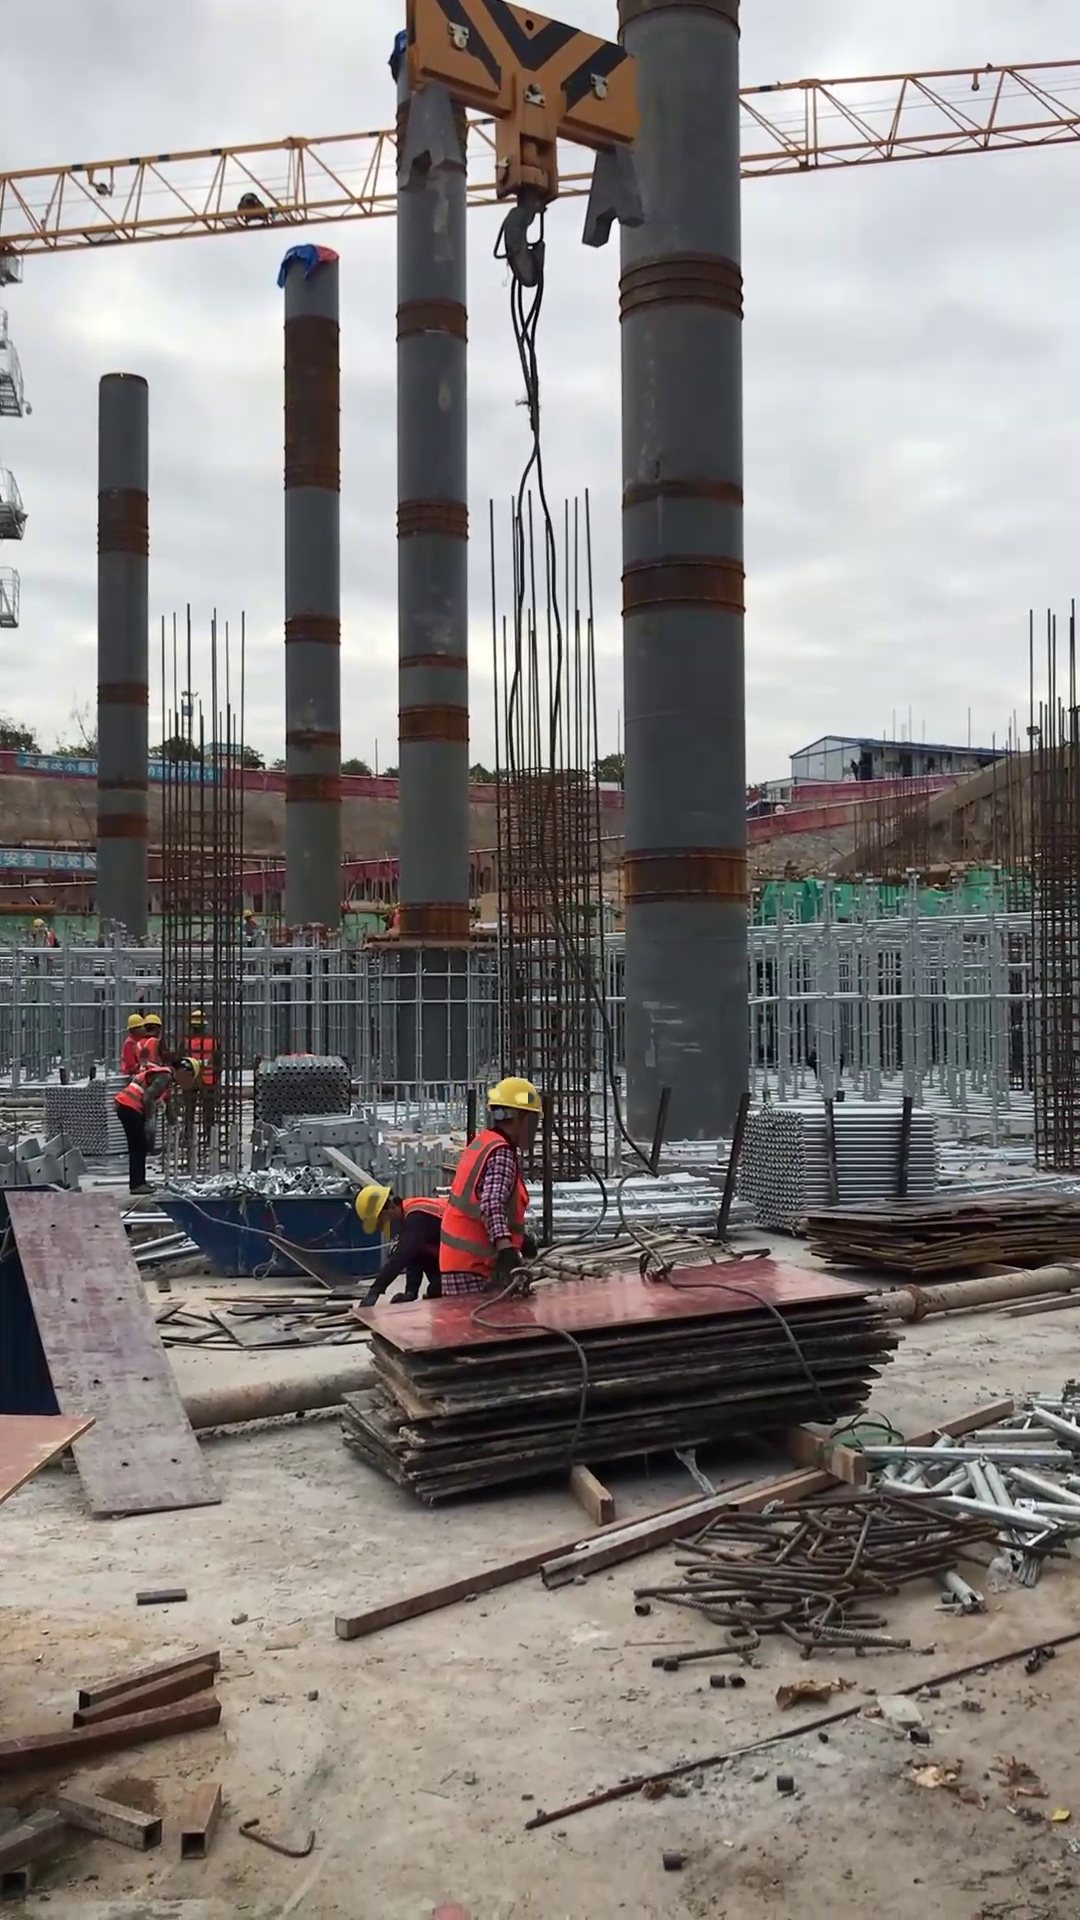board: (344, 1257, 893, 1502), (801, 1189, 1080, 1276)
helmet: (482, 1074, 545, 1121), (351, 1182, 399, 1234), (179, 1055, 202, 1084), (124, 1012, 146, 1033), (189, 1008, 208, 1027), (142, 1013, 163, 1029), (241, 908, 254, 921), (31, 916, 45, 927)
hook: (391, 2, 650, 292)
hopper: (150, 1191, 393, 1277)
person: (437, 1073, 546, 1301), (112, 1053, 202, 1195), (351, 1180, 450, 1305), (178, 1007, 227, 1148), (132, 1012, 169, 1068), (119, 1011, 147, 1077)
scaffold: (736, 1097, 944, 1230), (520, 1169, 763, 1239), (39, 1075, 132, 1158), (250, 1052, 352, 1128)
slogan: (17, 754, 223, 786), (3, 841, 101, 883)
vest: (437, 1127, 531, 1277), (113, 1066, 170, 1116), (185, 1031, 223, 1086), (400, 1196, 451, 1221), (134, 1034, 166, 1070)
